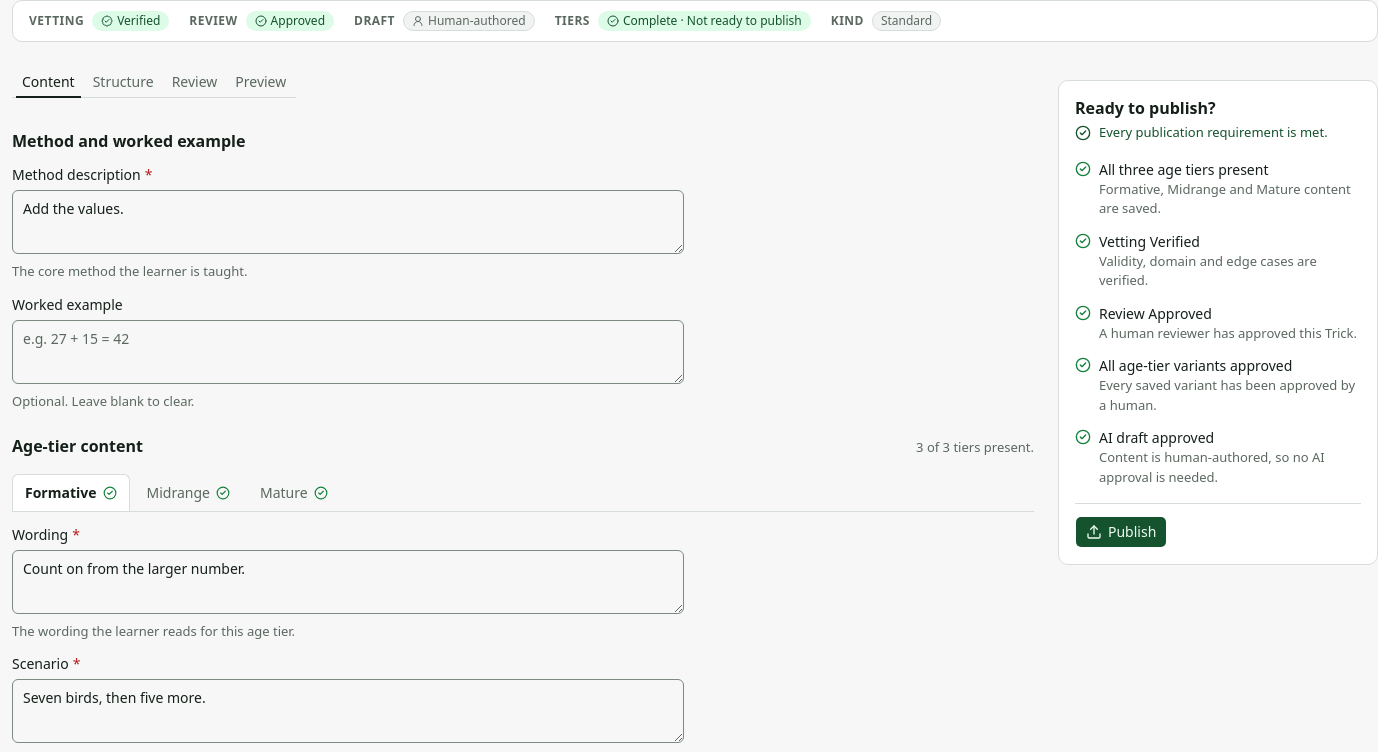
Test: Trick publication flow › surfaces the server blocker when publish is rejected
Click the button "Publish" at (1121, 532), box [1075, 516, 1167, 548]
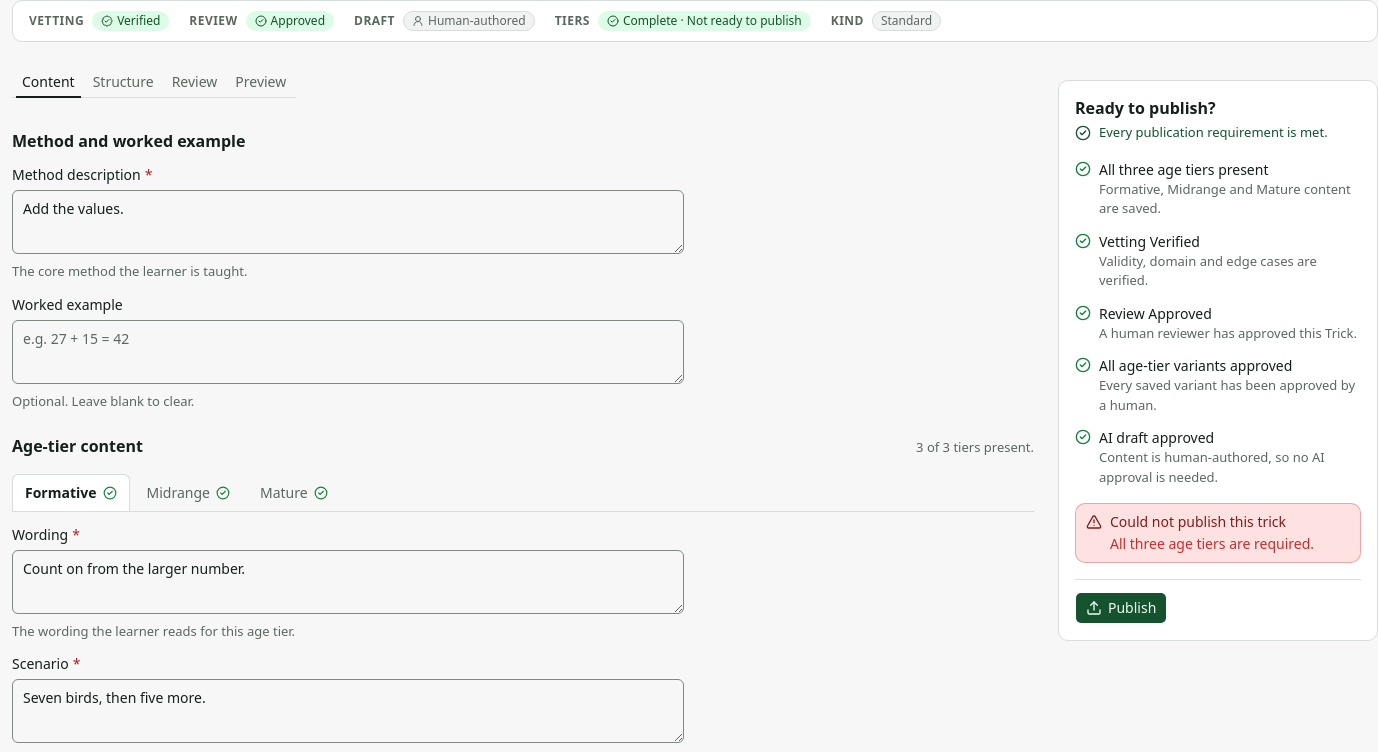
Result: the text "All three age tiers are required." is shown at [1110, 534, 1350, 554]
